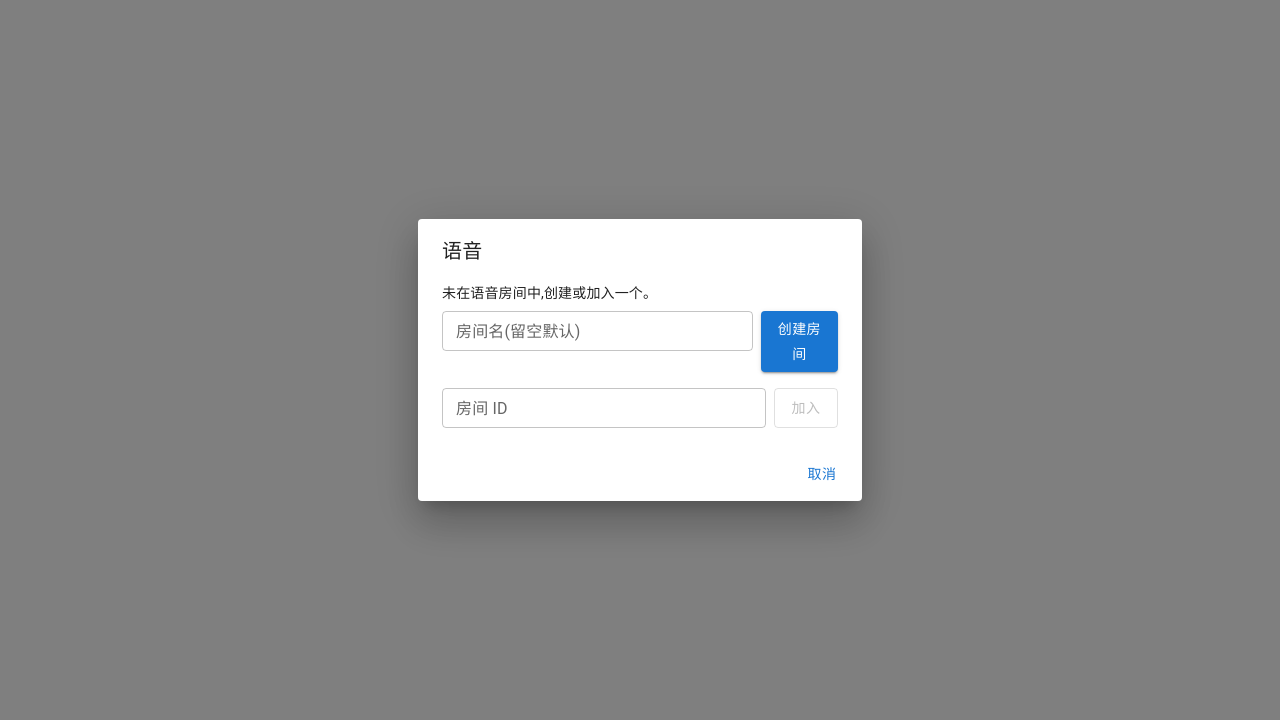
Test: VoiceDialog › joins by room id and leaves on confirm
The image size is (1280, 720).
Type "room-1" into the field labelled "房间 ID" at point(604, 408), box [442, 388, 766, 428]
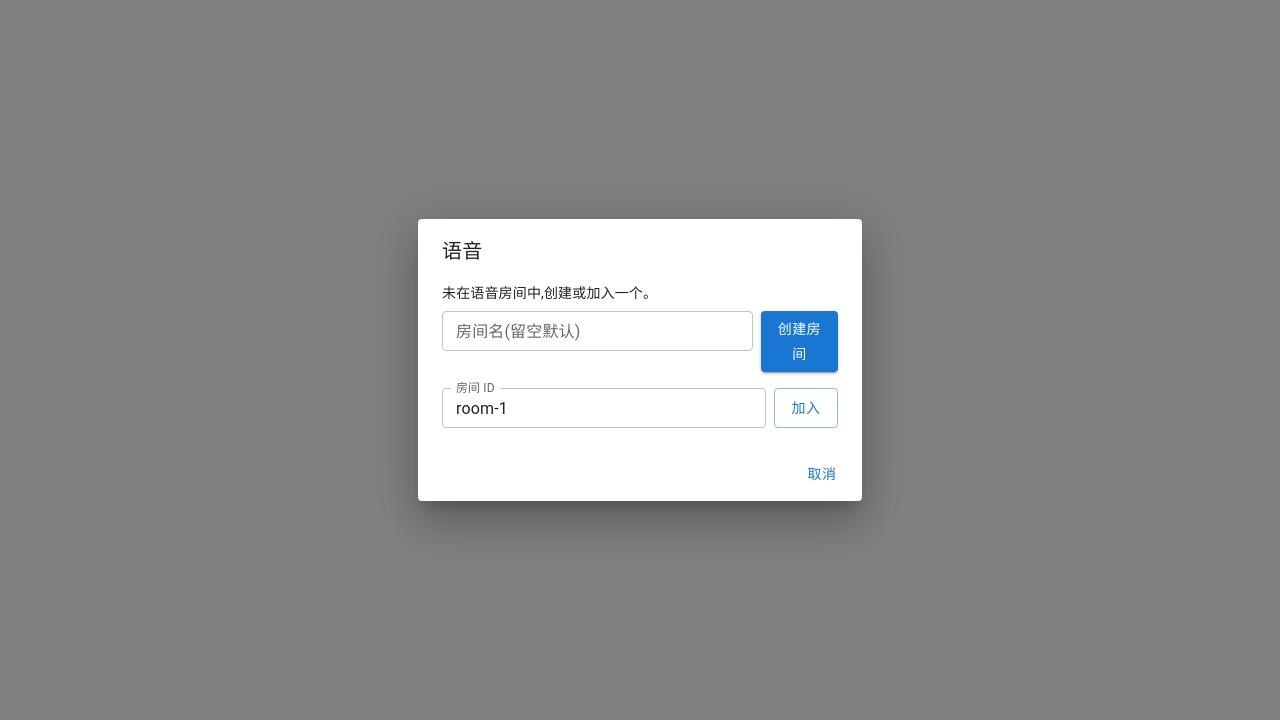
Click the button "加入" at point(806, 408), box [774, 388, 838, 428]
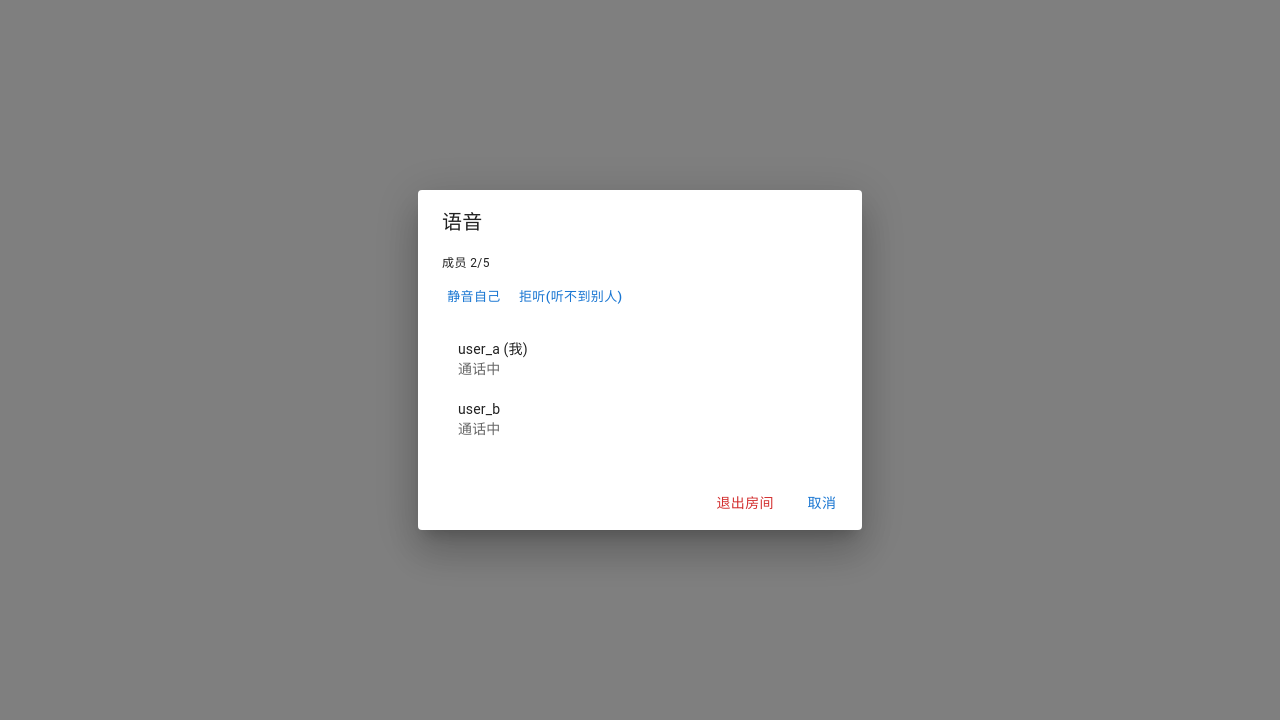
Click the button "退出房间" at point(745, 503), box [708, 485, 782, 522]
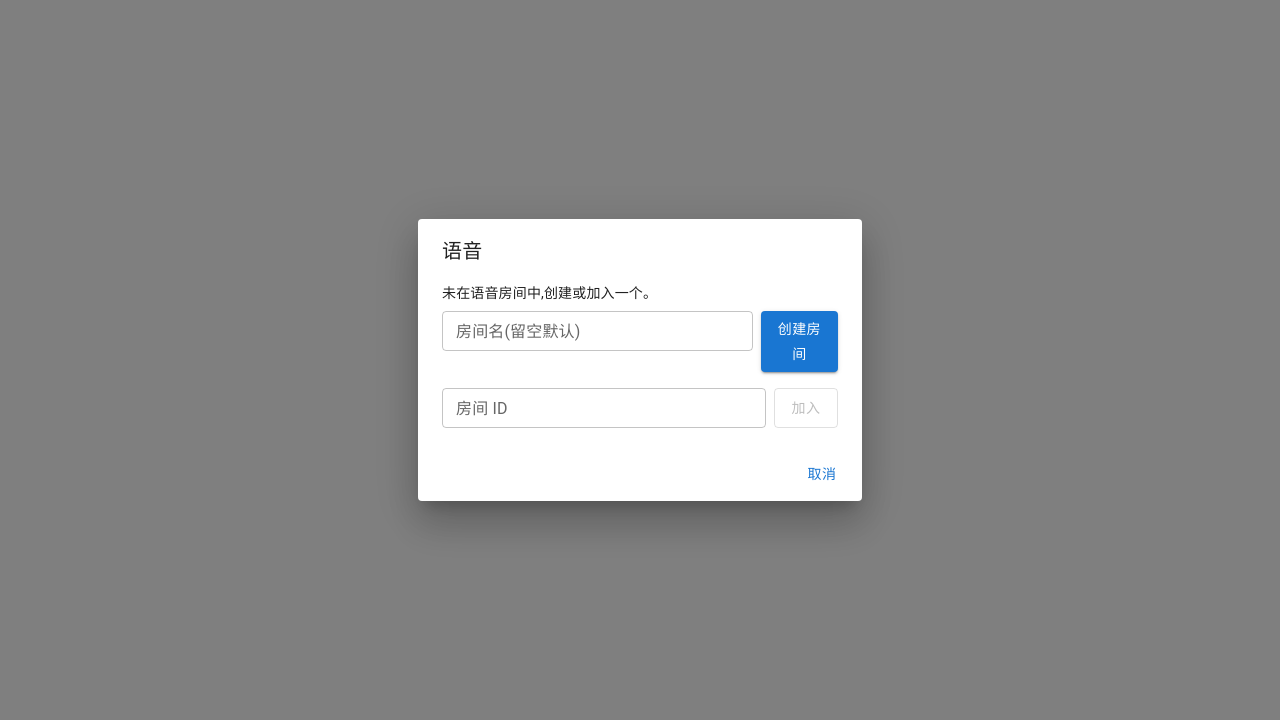
Result: the text "未在语音房间中,创建或加入一个。" is shown at [442, 285, 657, 301]
